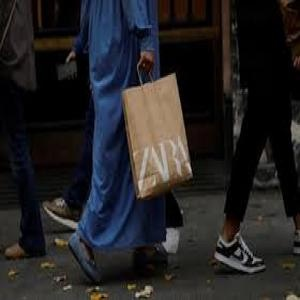zara: (131, 67, 260, 201)
